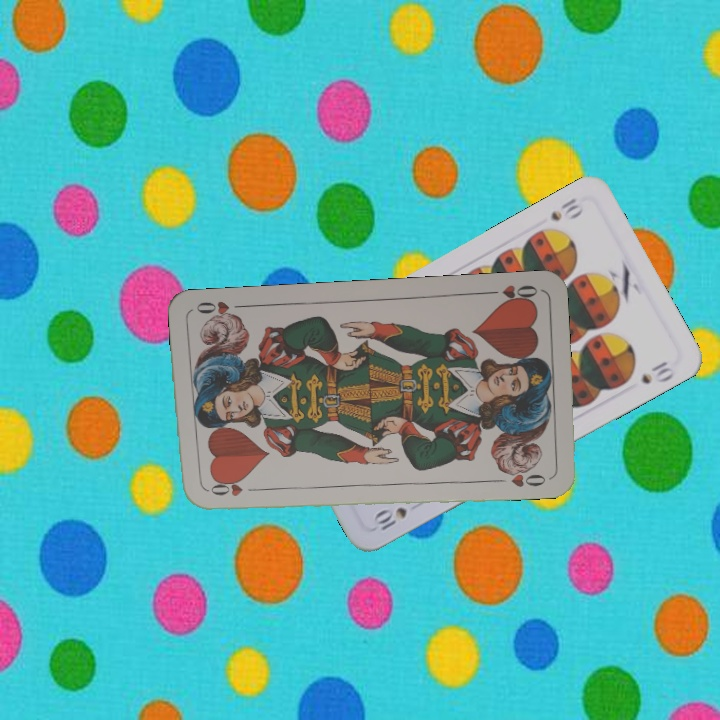HO: (482, 281, 540, 306), (202, 480, 262, 499)
S10: (368, 503, 410, 535), (546, 193, 586, 224)
